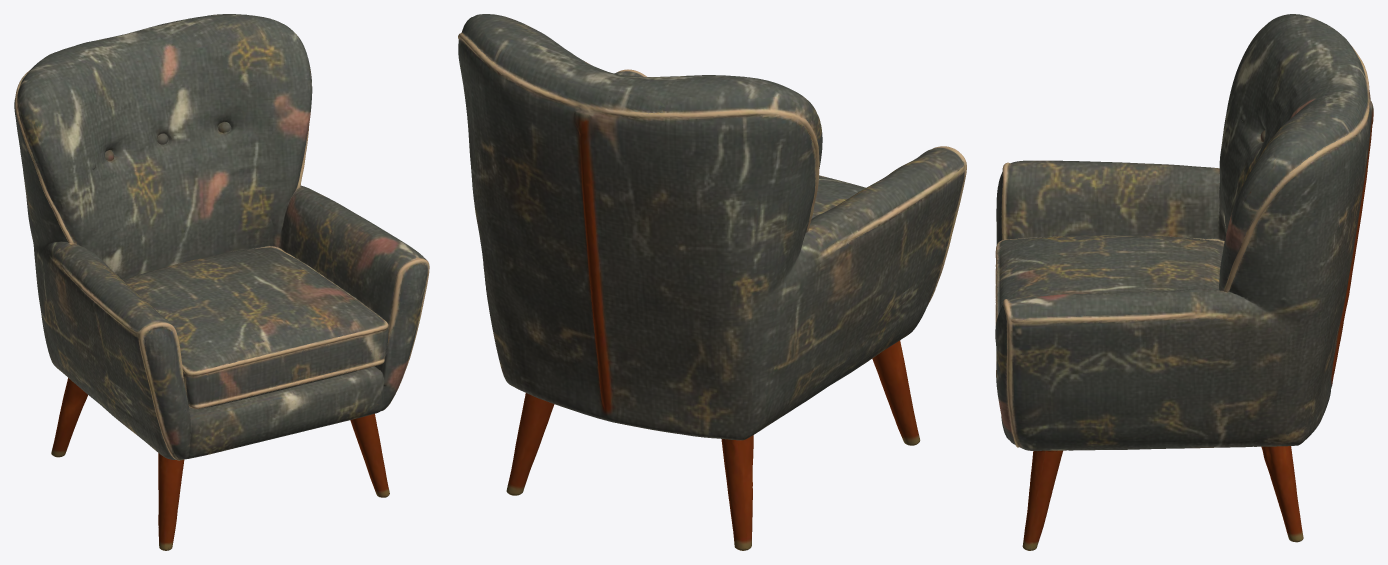
File: chair.glb
3 views of the same model, side by side, from view 1: azimuth 30°, elevation 25°; view 2: azimuth 150°, elevation 25°; view 3: azimuth 270°, elevation 25° (orthographic). The views are drawn at different scales.
Size of the model in its own units: 0.7939 by 1 by 0.8202.
Materials: 1 (1 with a texture image).
